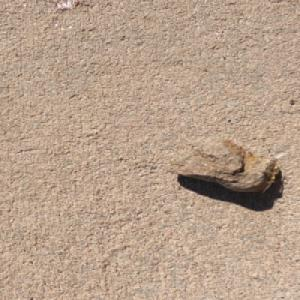Rock: (161, 136, 279, 193)
